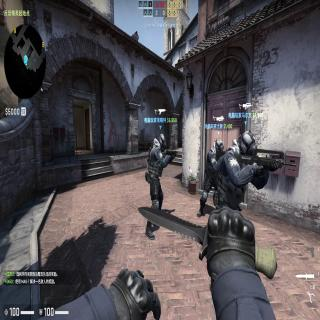CT-Head: (239, 130, 257, 156), (158, 133, 167, 150), (215, 139, 224, 151)
